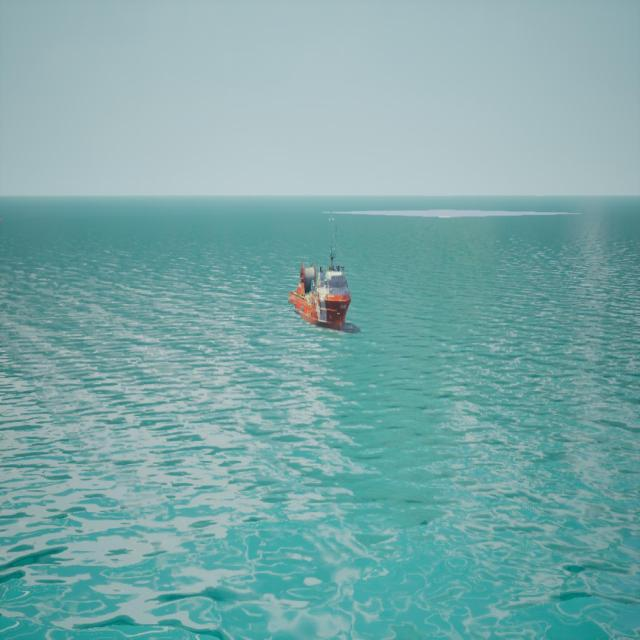tug boat: (288, 217, 356, 336)
